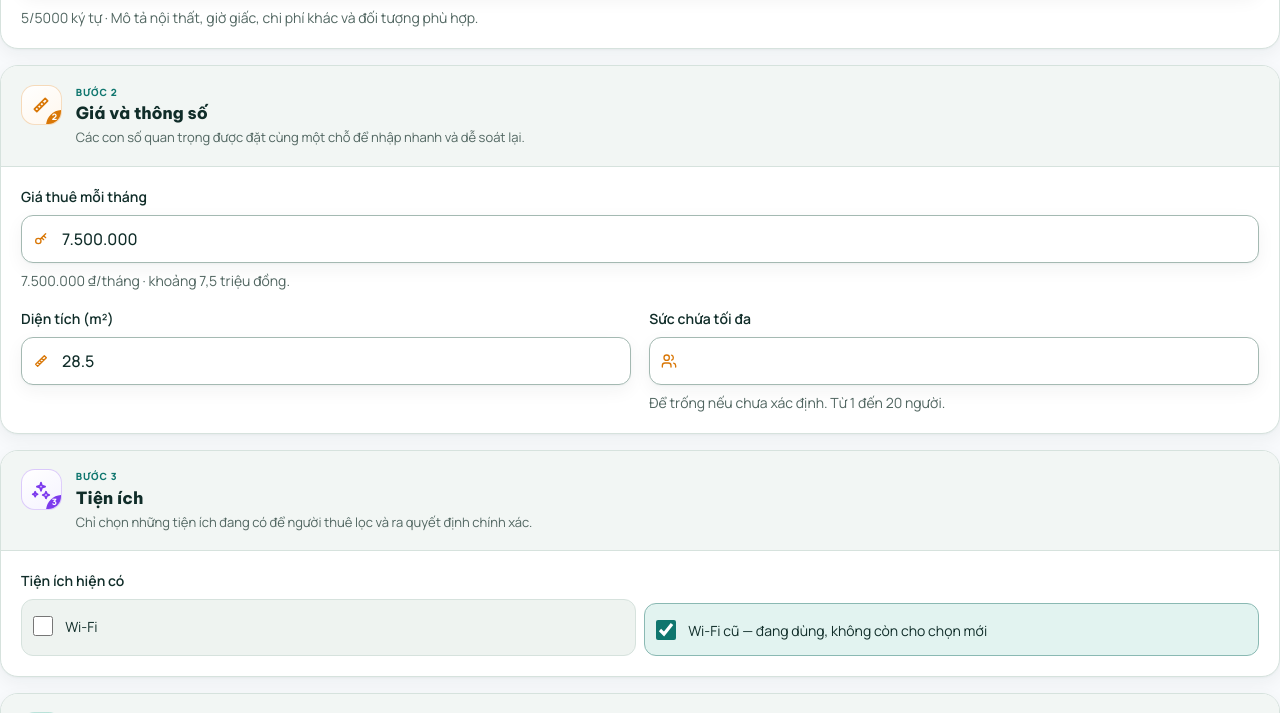
Test case: OwnerListingEditor › validates area 1.234
(page scrolled)
Replace the text in the number field labelled "Diện tích (m²)" with "1.234". click: point(326, 361)
box: [21,337,631,385]
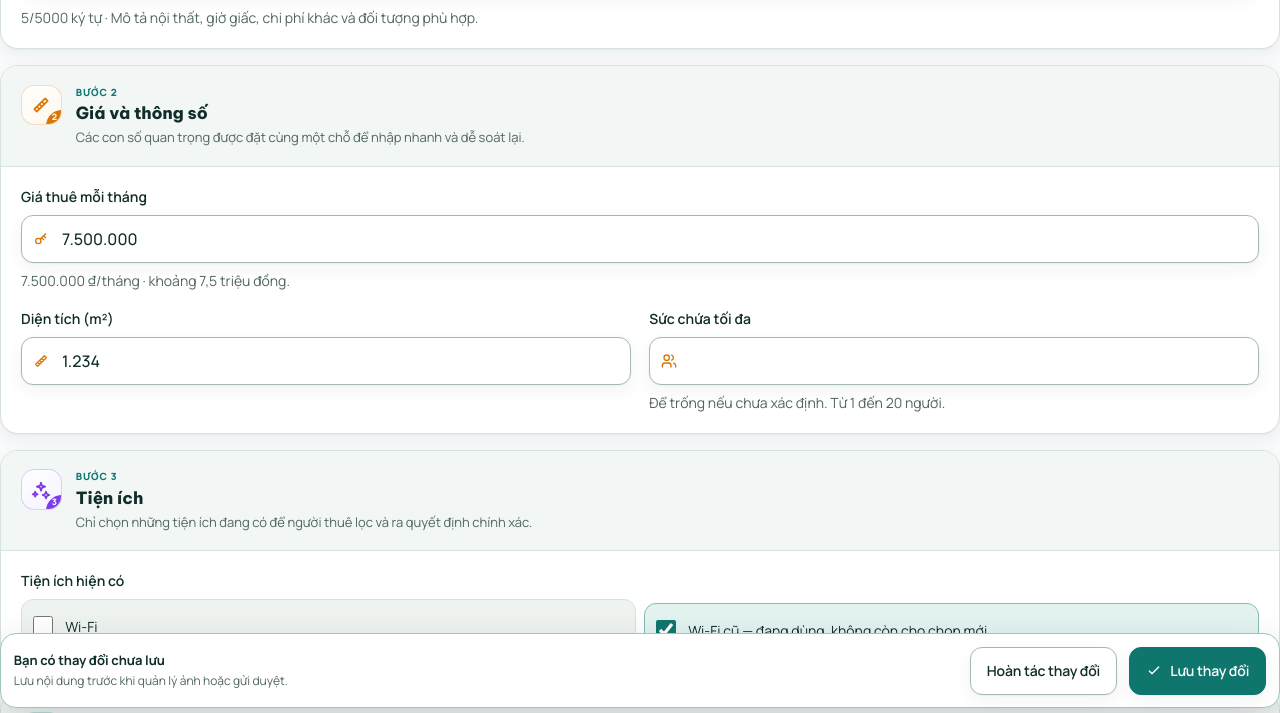
Click the button "Lưu thay đổi". click: point(1198, 670)
box: [1129,646,1266,694]
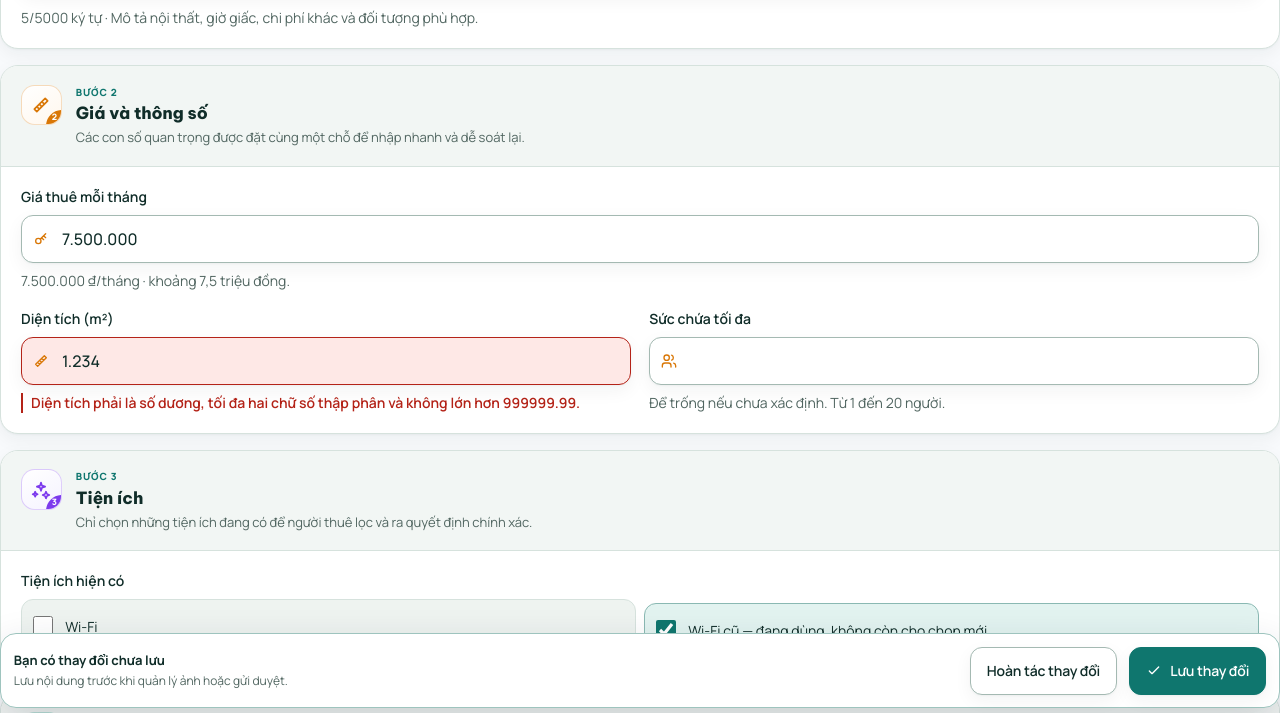
Check: the text "Diện tích phải là số dương" is shown, box [31,393,580,412]
